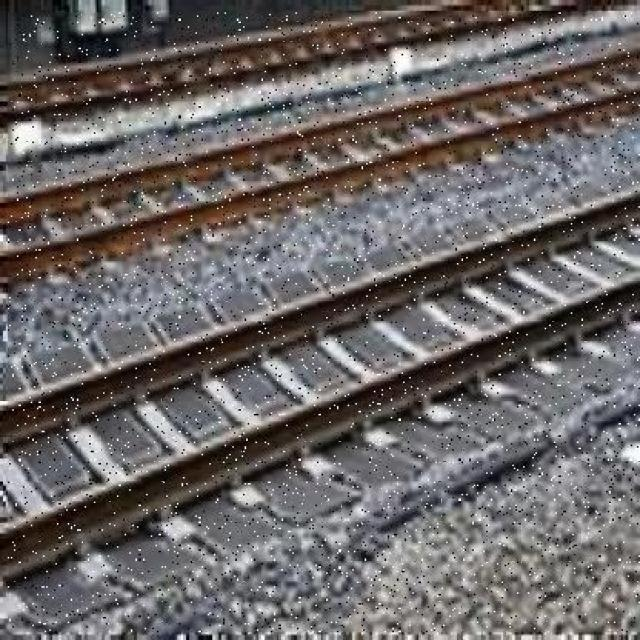rail: (0, 171, 640, 625), (0, 38, 640, 295)
